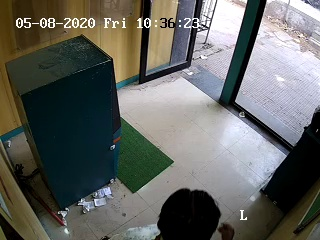open: (138, 3, 261, 106)
